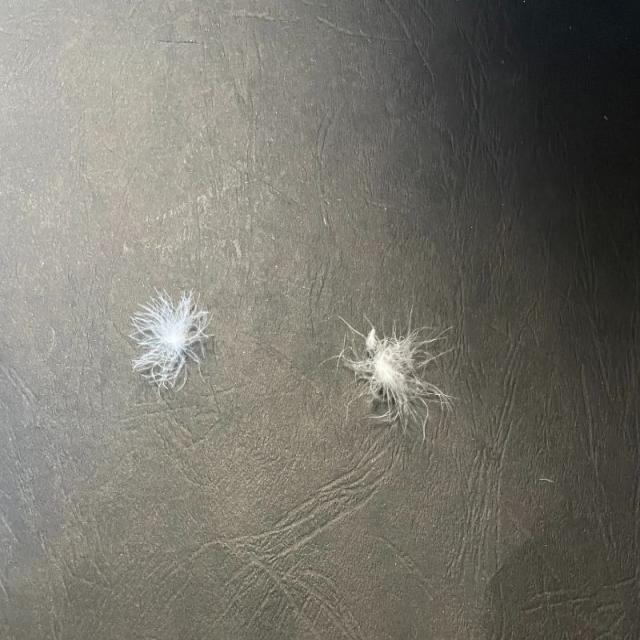feather: (331, 320, 453, 428), (126, 284, 208, 392)
